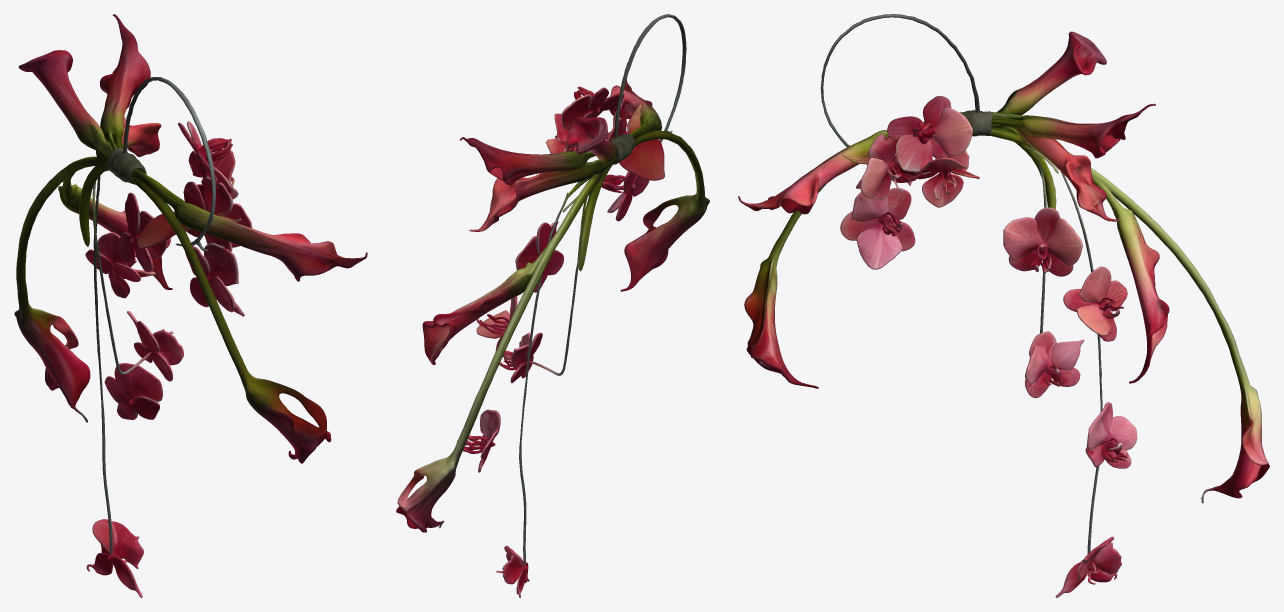
The model's file is crescent.glb.
The picture shows the model from 3 angles, left to right: view 1: azimuth 30°, elevation 25°; view 2: azimuth 150°, elevation 25°; view 3: azimuth 270°, elevation 25°; orthographic projection. The views are drawn at different scales.
Visible parts, largest first — view 1: tripo_node_751c14bd-2614-457e-a8d0-647018cb817b; view 2: tripo_node_751c14bd-2614-457e-a8d0-647018cb817b; view 3: tripo_node_751c14bd-2614-457e-a8d0-647018cb817b.
Boxes of the visible parts, x1,y1,x2,y2 form: tripo_node_751c14bd-2614-457e-a8d0-647018cb817b: (14, 14, 367, 597); tripo_node_751c14bd-2614-457e-a8d0-647018cb817b: (396, 14, 709, 597); tripo_node_751c14bd-2614-457e-a8d0-647018cb817b: (738, 14, 1269, 597).
Bounding box in the file's own units: 0.3114 × 1 × 0.8662.
Materials: 1 (1 with a texture image).
